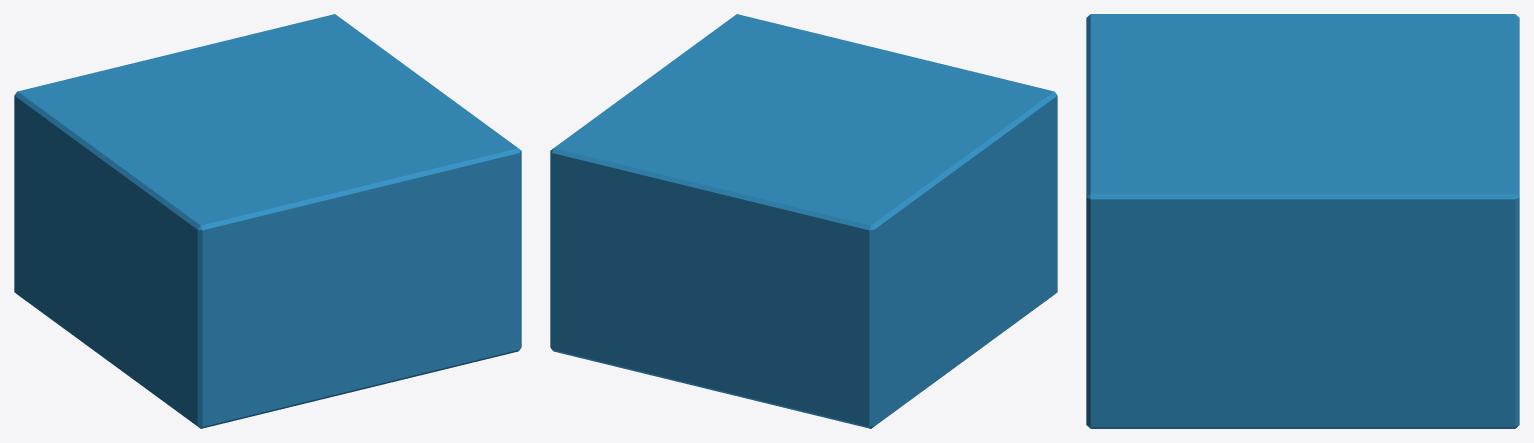
File: water_tank.glb
3 views of the same model, side by side, from view 1: azimuth 30°, elevation 25°; view 2: azimuth 150°, elevation 25°; view 3: azimuth 270°, elevation 25° (orthographic). The views are drawn at different scales.
Visible parts, largest first — view 1: water_tank; view 2: water_tank; view 3: water_tank.
Boxes of the visible parts, x1,y1,x2,y2 form: water_tank: (14, 14, 521, 428); water_tank: (550, 14, 1057, 428); water_tank: (1086, 14, 1519, 428).
Size of the model in its own units: 0.6 by 0.36 by 0.6.
